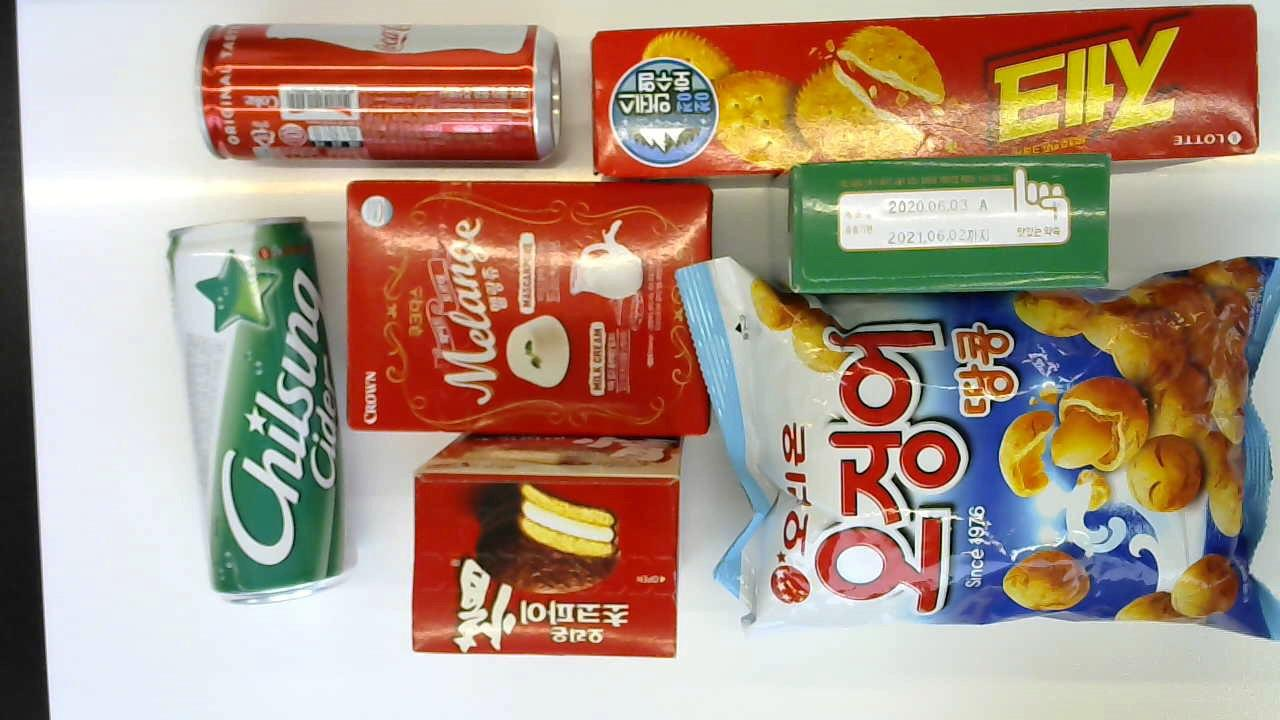chocopie: (411, 428, 685, 656)
cidar: (163, 215, 359, 604)
coke: (193, 19, 562, 167)
couque_coffee: (785, 160, 1110, 293)
couque_white: (344, 177, 715, 437)
squid_peanut: (705, 245, 1280, 625)
zec: (589, 1, 1260, 169)
